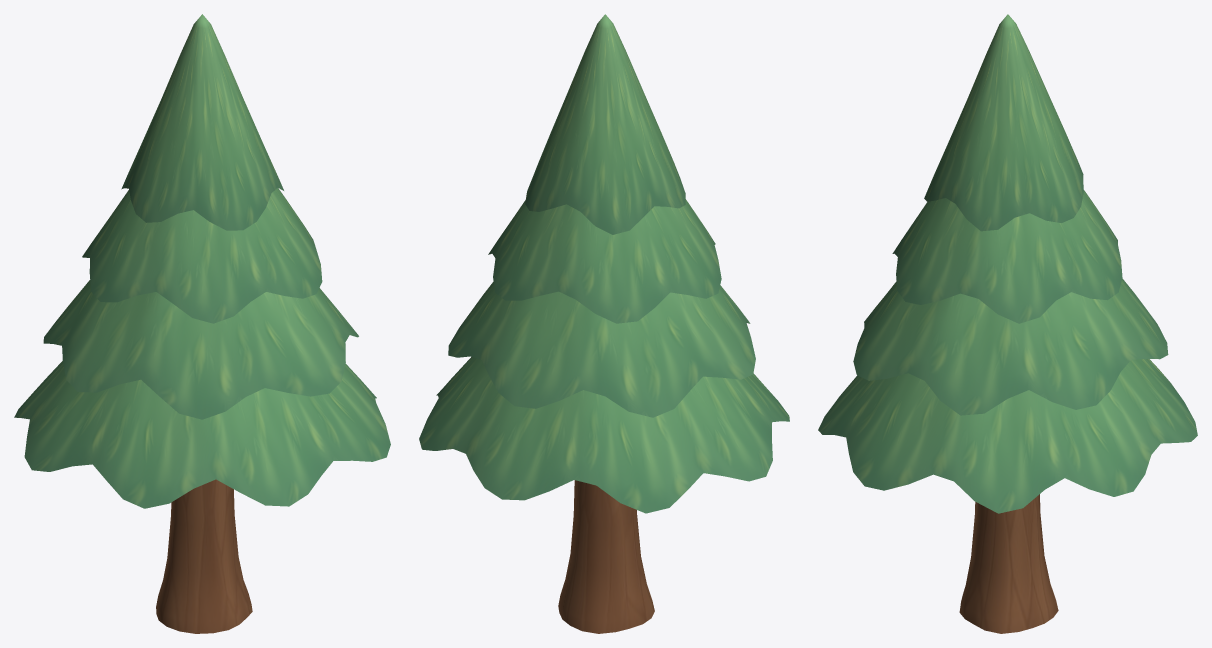
The model's file is WriteLoop_Tree_Pine_LOD1.glb.
3 views of the same model, side by side, from view 1: azimuth 30°, elevation 25°; view 2: azimuth 150°, elevation 25°; view 3: azimuth 270°, elevation 25° (orthographic).
Parts seen in each view (by area): view 1: Tree_Foliage, Tree_Wood; view 2: Tree_Foliage, Tree_Wood; view 3: Tree_Foliage, Tree_Wood.
Boxes of the visible parts, left/top/right/bottom form: Tree_Foliage: left=14, top=14, right=390, bottom=508; Tree_Wood: left=156, top=479, right=252, bottom=633; Tree_Foliage: left=419, top=14, right=789, bottom=513; Tree_Wood: left=558, top=480, right=654, bottom=633; Tree_Foliage: left=818, top=14, right=1197, bottom=513; Tree_Wood: left=959, top=494, right=1058, bottom=633.
Bounding box in the file's own units: 1.88 × 3.25 × 1.87.
Materials: 2 (2 with a texture image).
